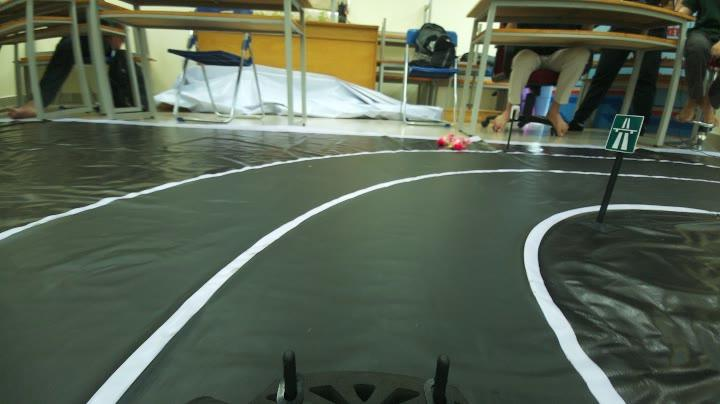highway_entry: (608, 108, 646, 156)
